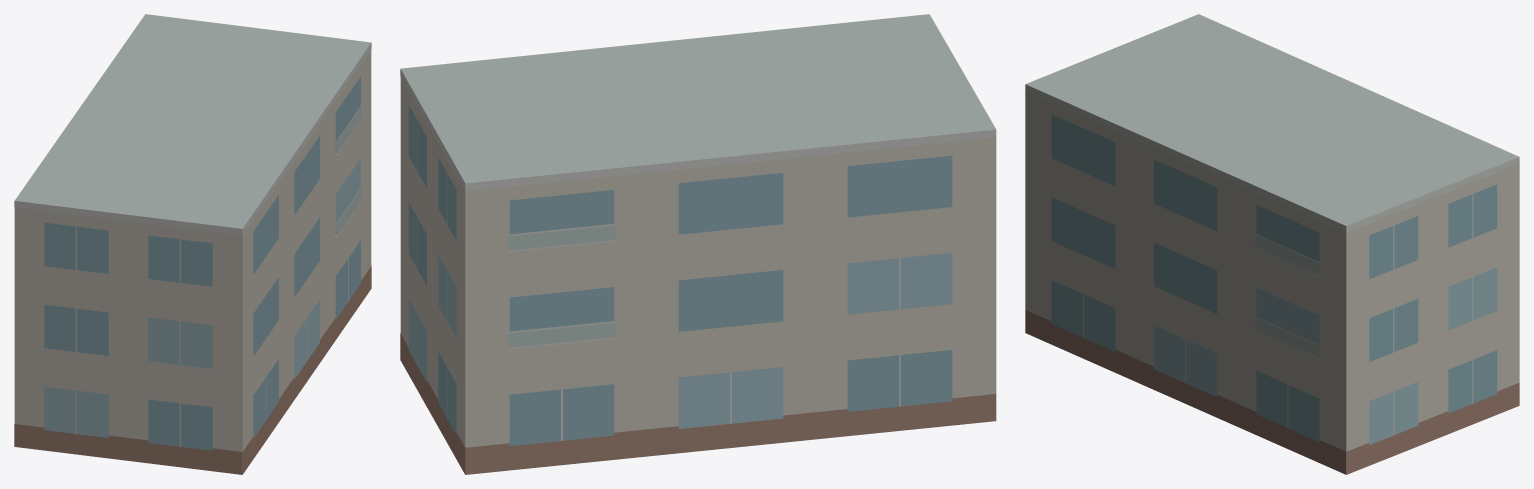
Rendered from survey-upis-32957179.glb.
3 renders of one model, left to right at view 1: azimuth 30°, elevation 25°; view 2: azimuth 150°, elevation 25°; view 3: azimuth 270°, elevation 25°, orthographic. The views are drawn at different scales.
Visible parts, largest first — view 1: survey-upis-32957179.tmp; view 2: survey-upis-32957179.tmp; view 3: survey-upis-32957179.tmp.
Boxes of the visible parts, x1,y1,x2,y2 form: survey-upis-32957179.tmp: (14,14,371,474); survey-upis-32957179.tmp: (400,14,996,474); survey-upis-32957179.tmp: (1025,14,1519,474).
Bounding box in the file's own units: 16.75 × 9.15 × 16.49.
